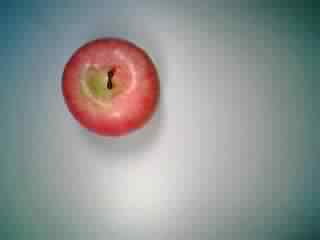apple: (56, 32, 162, 136)
